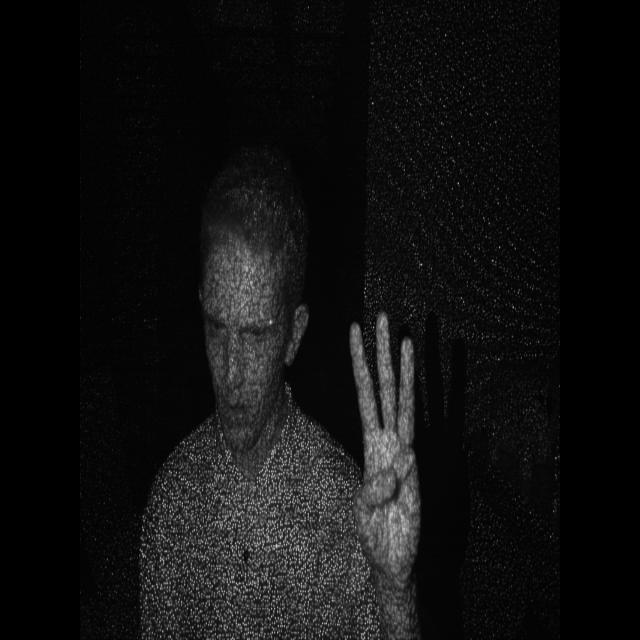W: (343, 296, 427, 591)
